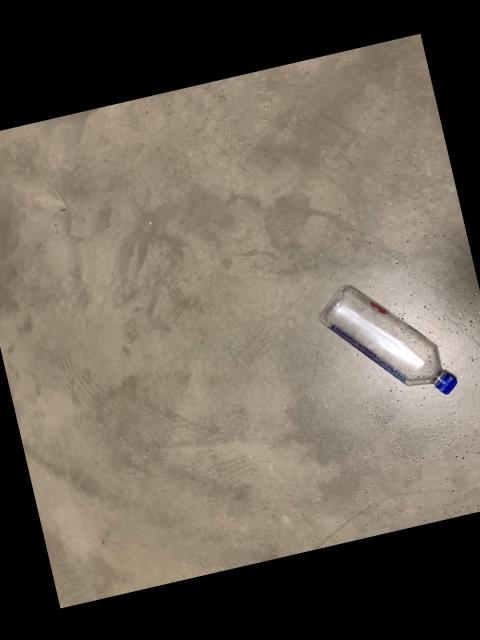plastic: (320, 283, 457, 390)
